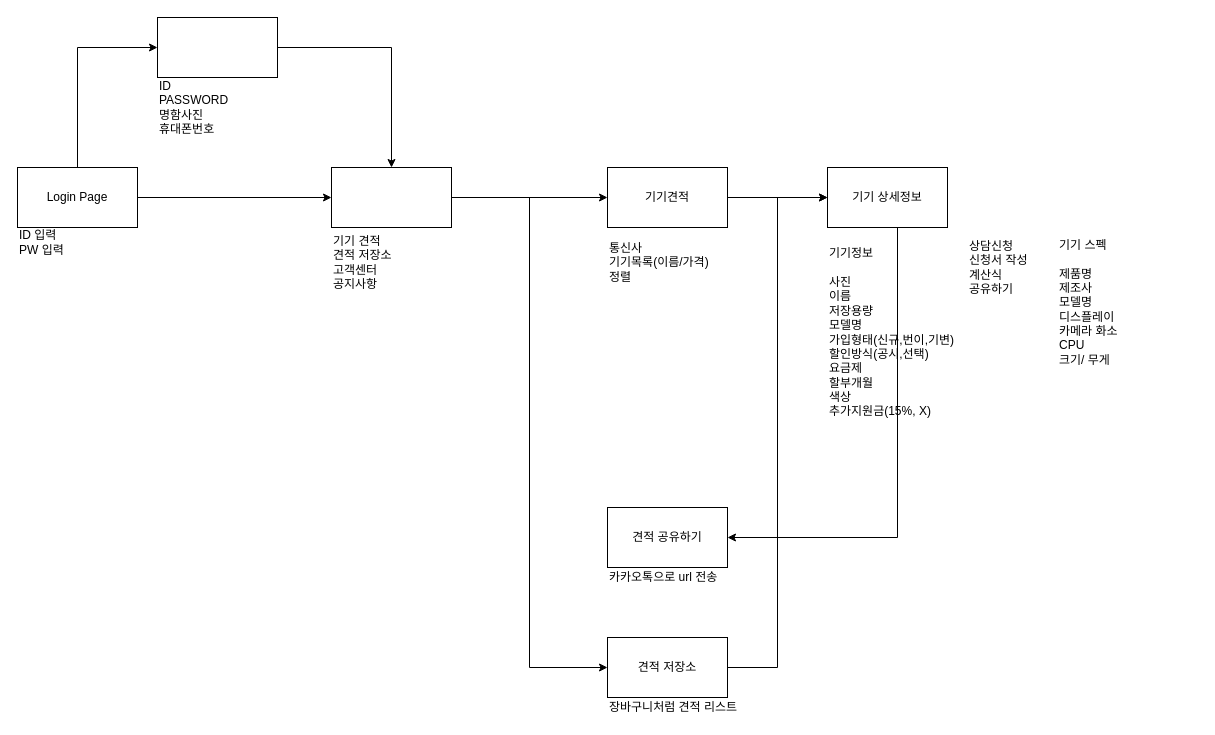
Image size: 1215x735. Some labels were removed from this diagram. Each missing label, with the centre of its shape:
"SignUp Page" goes at pixel 217 47.
"메인화면" goes at pixel 391 197.
